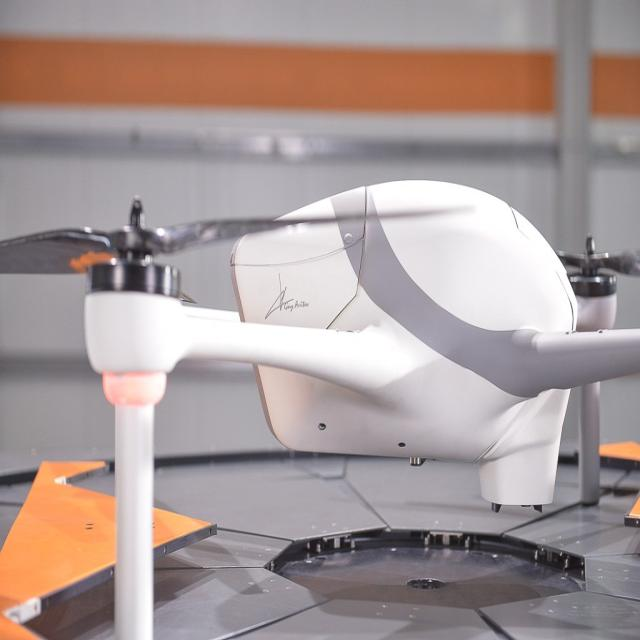drone: (16, 160, 640, 456)
